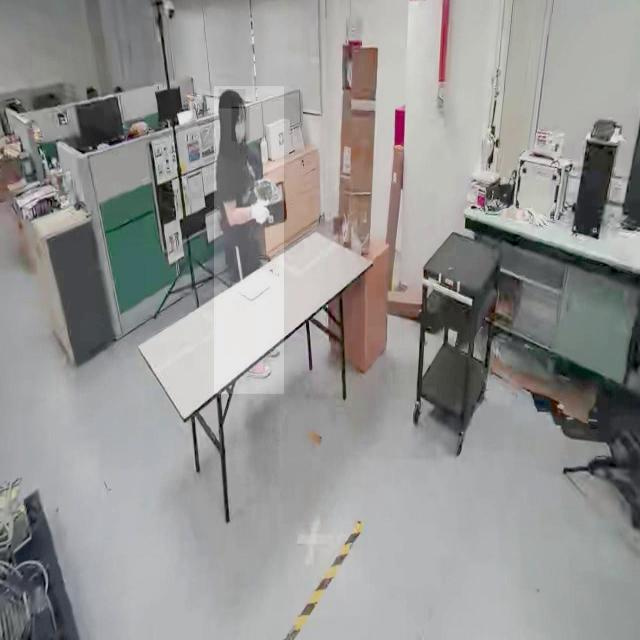face_mask: (232, 107, 250, 141)
hand_glove: (250, 196, 272, 238)
head_nohelmet: (218, 89, 246, 109)
person: (214, 86, 284, 395)
